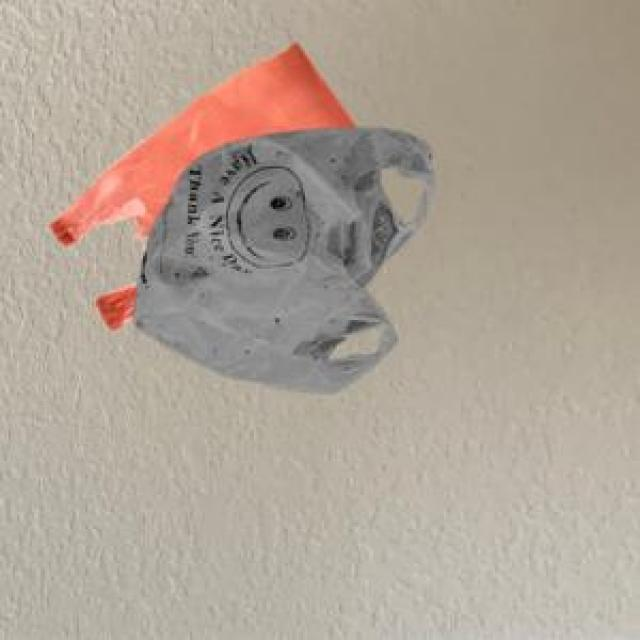plastic: (42, 26, 464, 404)
